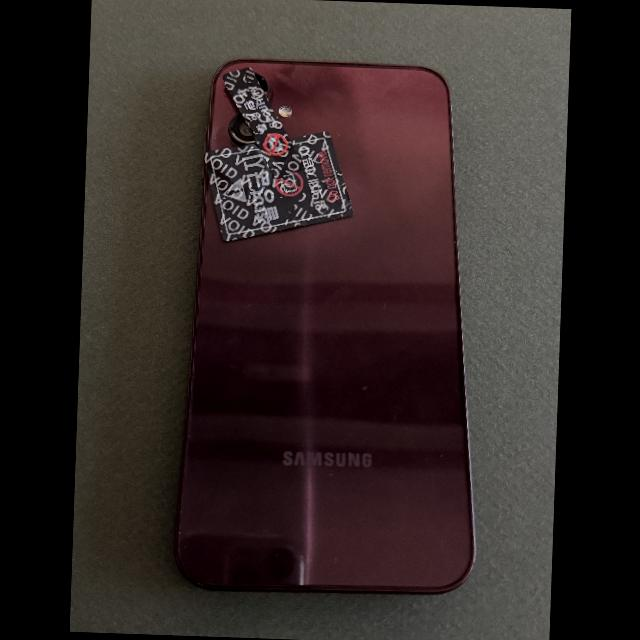lens: (232, 115, 254, 143), (256, 74, 266, 91)
phone: (174, 59, 473, 592)
sticker: (203, 131, 354, 241), (221, 66, 305, 178)
